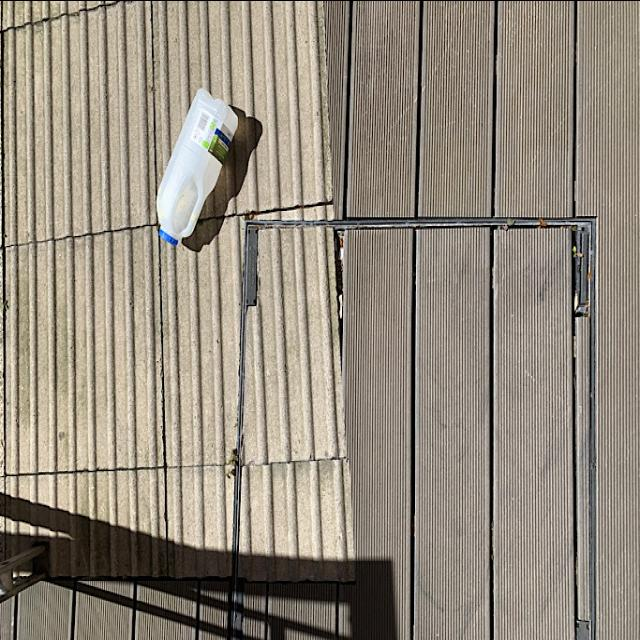HDPEM: (152, 88, 246, 248)
